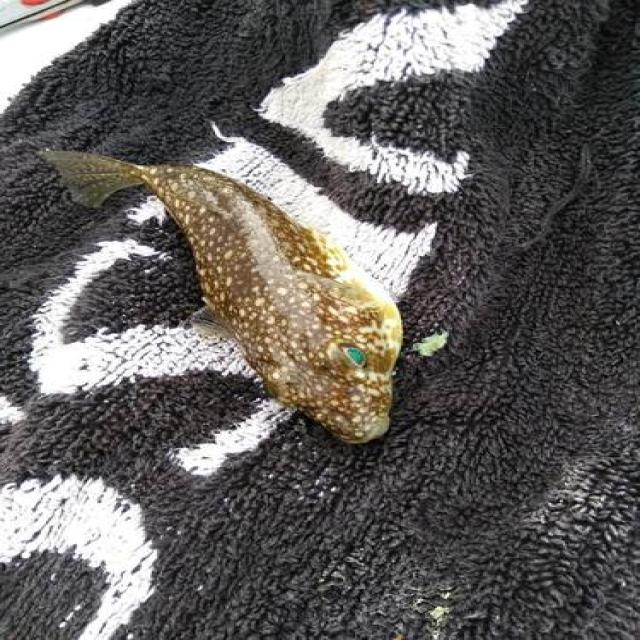Balik: (43, 152, 402, 442)
